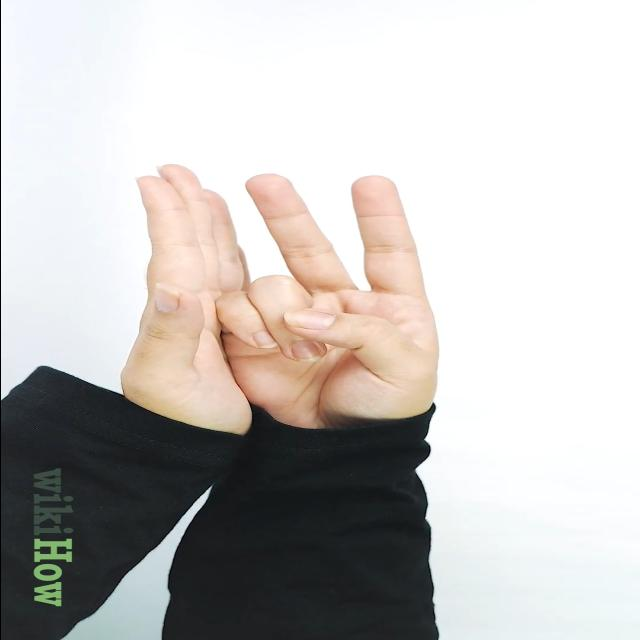Scissors: (215, 172, 440, 426)
